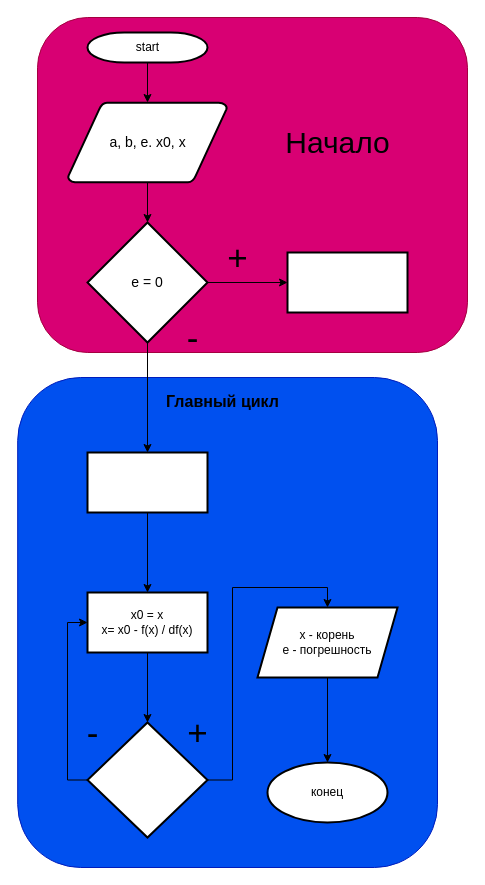
The diagram is 485 pixels wide and 885 high, and some of its shapes have lost their labels. Here are the shapes that lost their labels. From the top down, the centre of each, then its label:
At (347,282): "e = (b - a) / 1024".
At (147,482): "x = a x0 = a".
At (147,779): "fabs(x0 - x) < eps".
